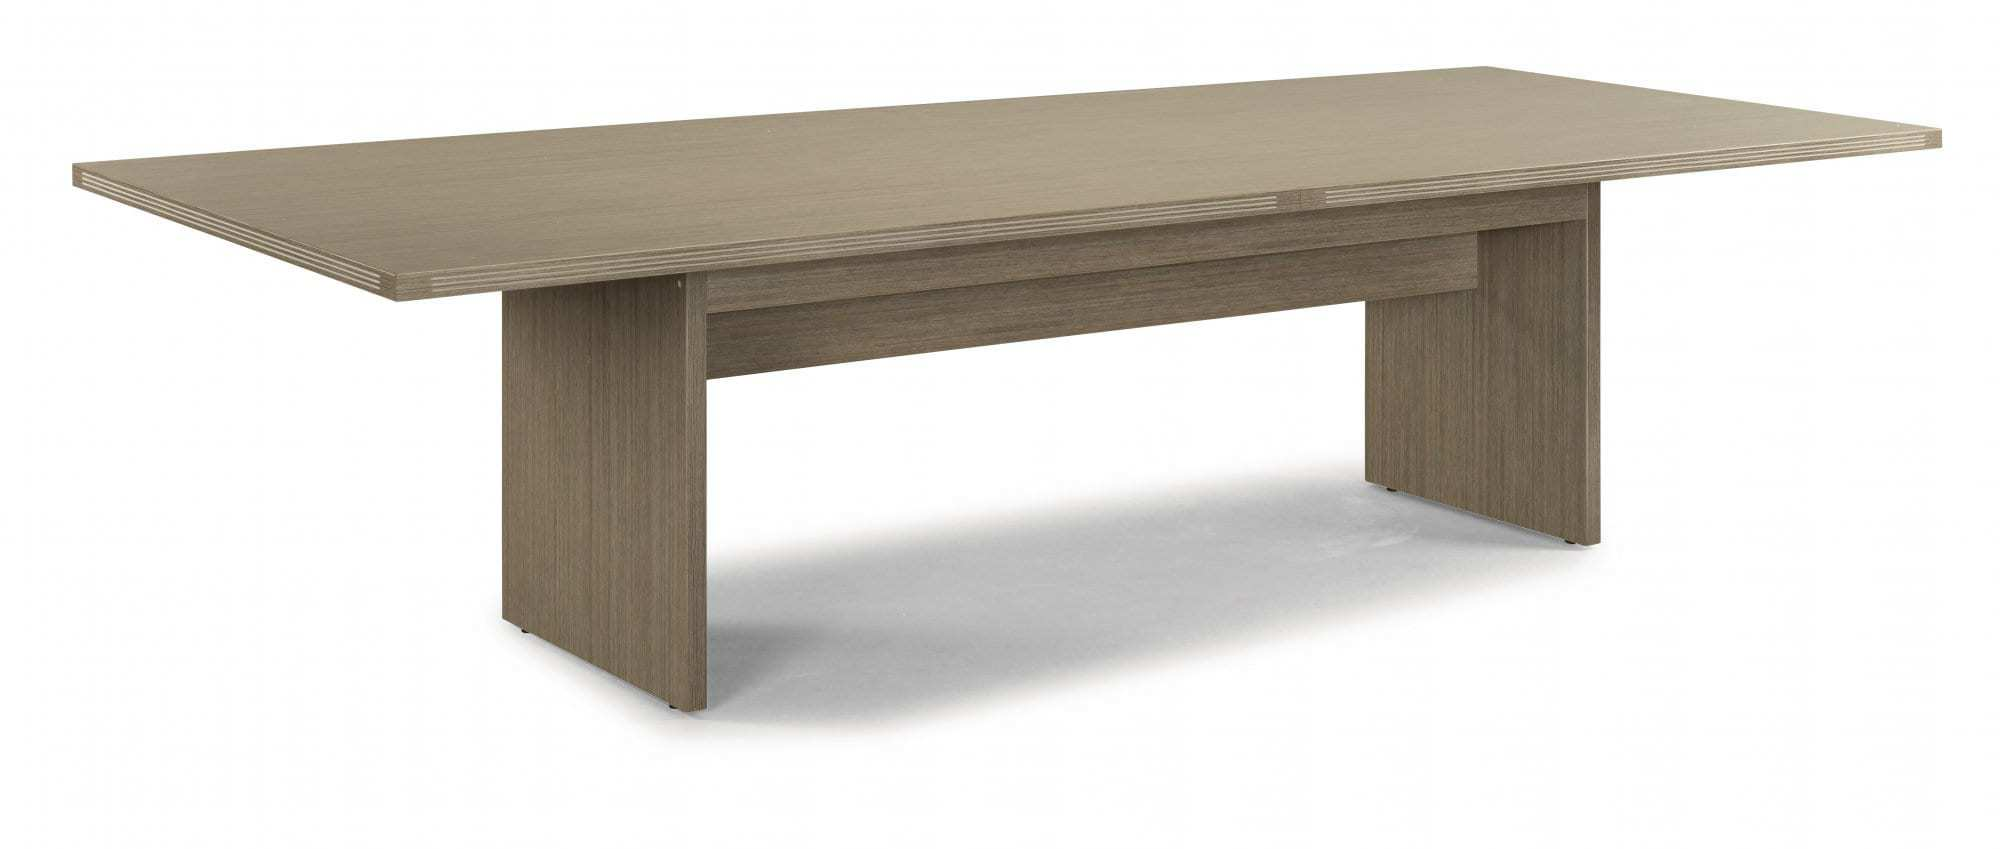conference_table: (77, 65, 1944, 713)
